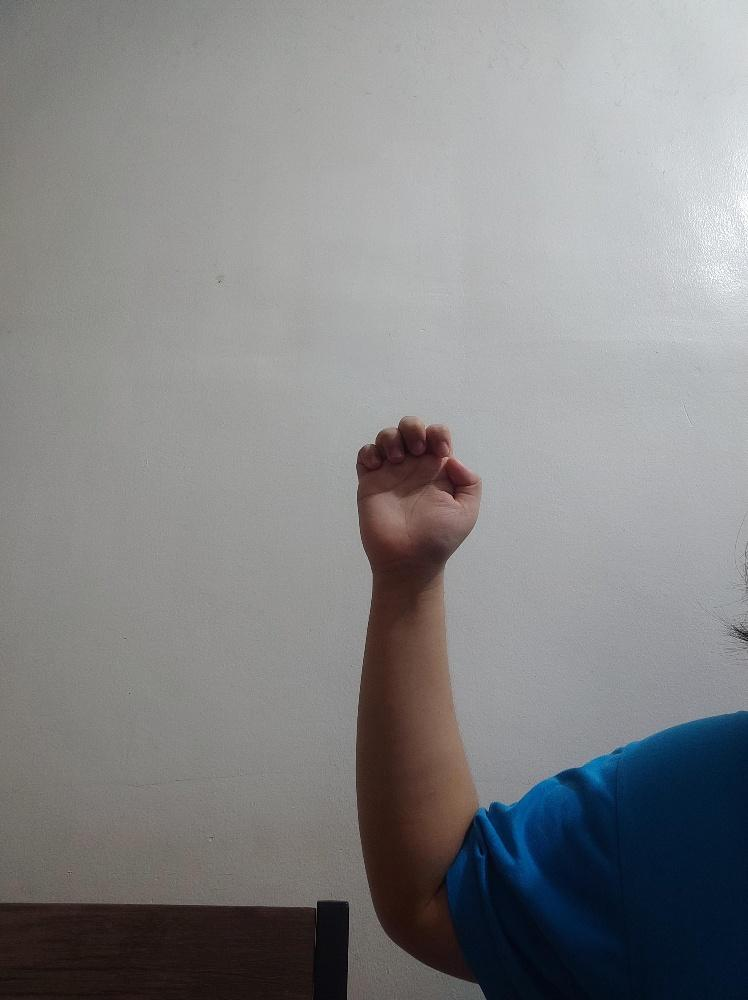e: (355, 414, 482, 569)
